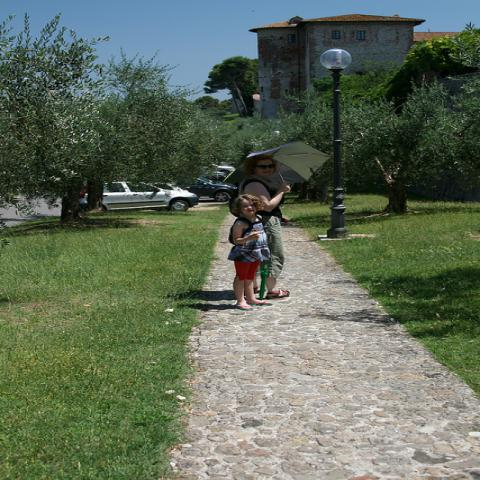car: (79, 181, 199, 213), (184, 176, 238, 202), (212, 164, 236, 174), (211, 174, 225, 181)
